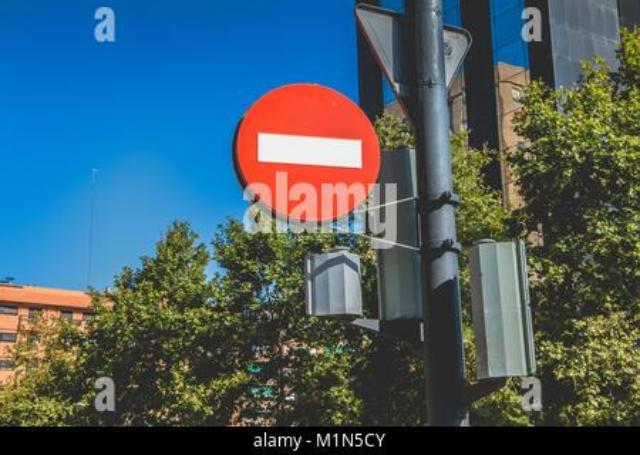B2: (231, 80, 381, 222)
